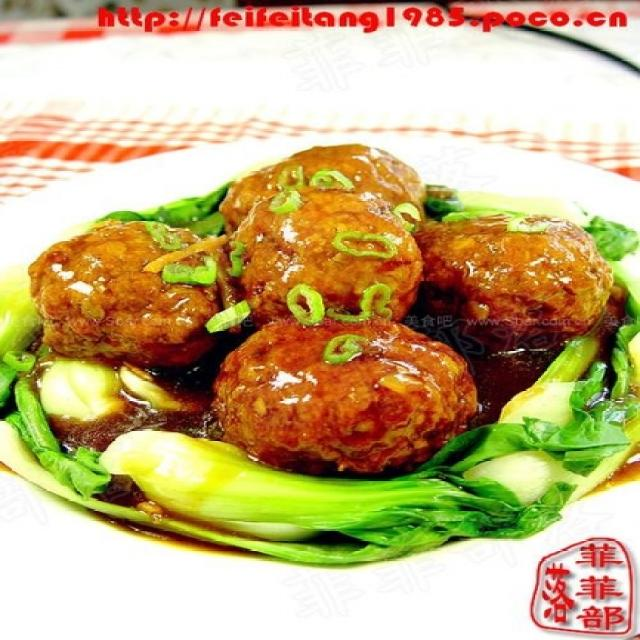Meatball: (198, 302, 497, 474), (383, 207, 640, 362), (17, 212, 245, 374), (223, 182, 441, 320)
